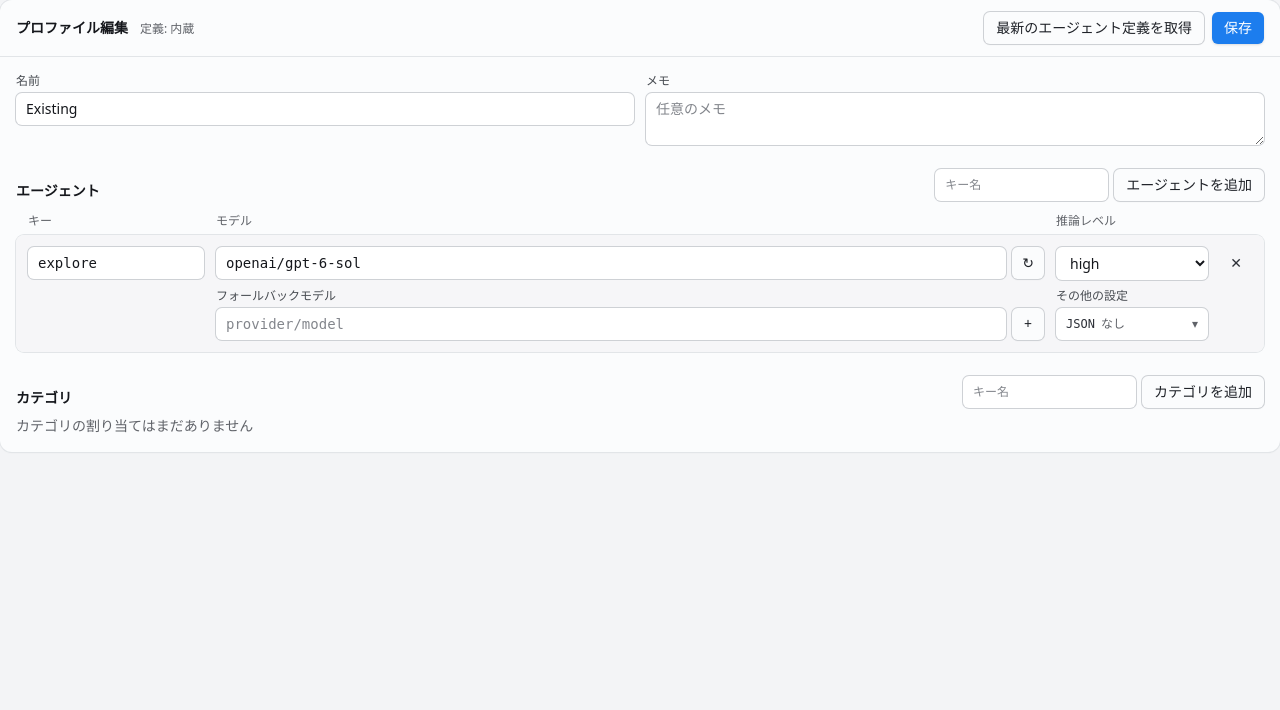
Test: ProfileEditor › adds only missing rows when fetching the latest definitions
Click the button "最新のエージェント定義を取得": [1094, 28] box [984,12,1204,44]
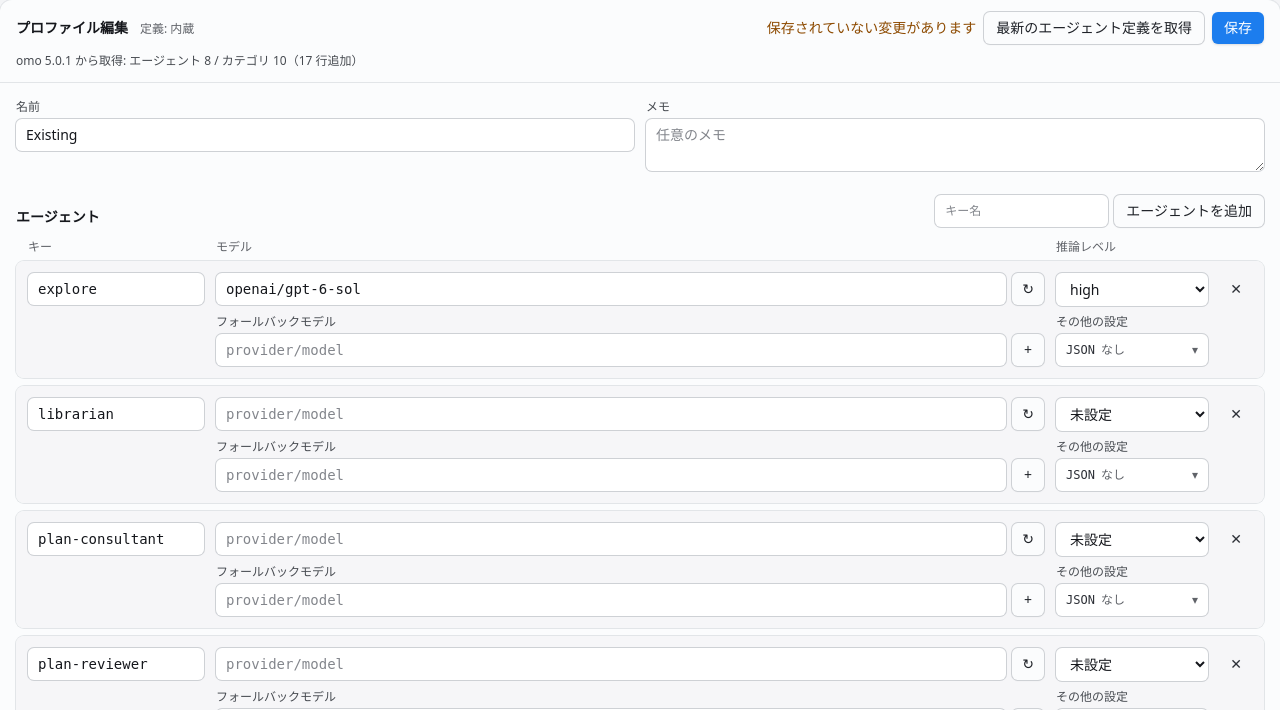
Expected: the 1st dropdown named "モデル" holds "openai/gpt-6-sol", [216,273,1006,305]
Result: the text with test id "catalog-status" reads "omo 5.0.1 から取得: エージェント 8 / カテゴリ 10（17 行追加）" at [16,52,364,69]
Result: the text "保存されていない変更があります" is shown at [767,18,976,38]
